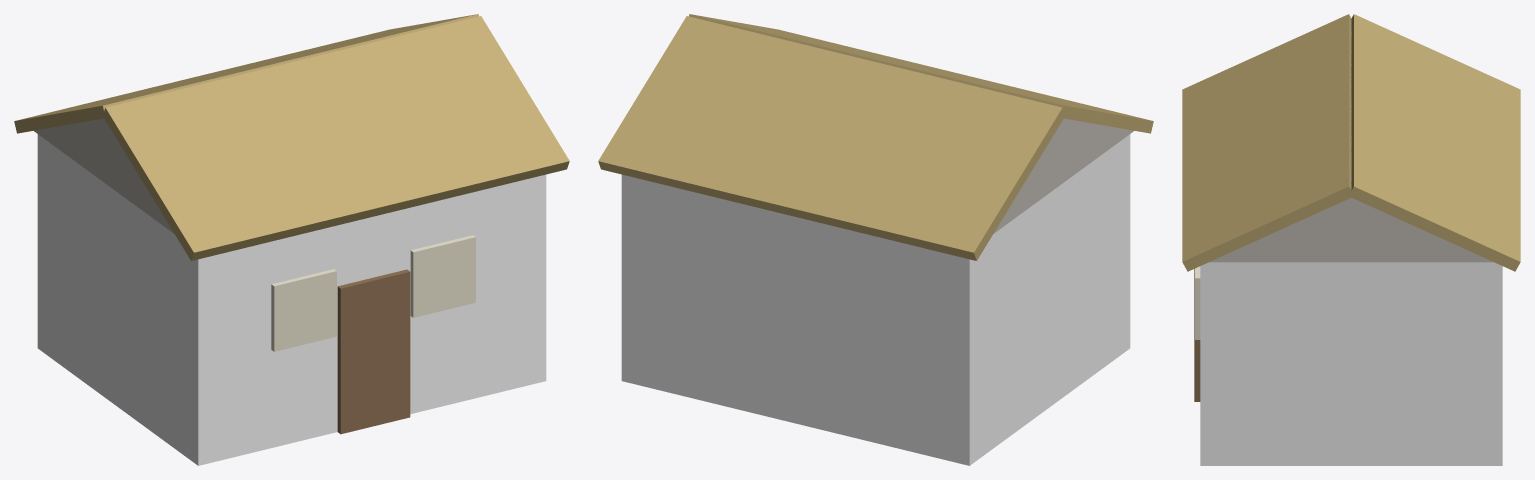
The model's file is House.glb.
3 views of the same model, side by side, from view 1: azimuth 30°, elevation 25°; view 2: azimuth 150°, elevation 25°; view 3: azimuth 270°, elevation 25° (orthographic). The views are drawn at different scales.
Visible parts, largest first — view 1: HouseBody, RoofA, Door, RoofB, Gable.House.L, HouseWindow1, HouseWindow2; view 2: HouseBody, RoofB, RoofA, Gable.House.L; view 3: HouseBody, RoofA, RoofB, Gable.House.R, Door, HouseWindow2.
Boxes of the visible parts, left/top/right/bottom form: HouseBody: left=37, top=134, right=546, bottom=465; RoofA: left=103, top=16, right=569, bottom=260; Door: left=337, top=269, right=410, bottom=434; RoofB: left=14, top=14, right=478, bottom=133; Gable.House.L: left=34, top=118, right=174, bottom=233; HouseWindow1: left=271, top=269, right=336, bottom=351; HouseWindow2: left=410, top=235, right=475, bottom=317; HouseBody: left=621, top=134, right=1130, bottom=465; RoofB: left=598, top=16, right=1063, bottom=260; RoofA: left=689, top=14, right=1153, bottom=133; Gable.House.L: left=993, top=118, right=1133, bottom=233; HouseBody: left=1200, top=262, right=1502, bottom=465; RoofA: left=1182, top=14, right=1353, bottom=271; RoofB: left=1350, top=14, right=1520, bottom=271; Gable.House.R: left=1209, top=197, right=1493, bottom=262; Door: left=1194, top=268, right=1200, bottom=401; HouseWindow2: left=1195, top=266, right=1200, bottom=339.
Size of the model in its own units: 5.4 by 4.17 by 4.48.
